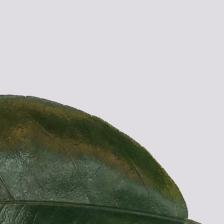healthy: (1, 94, 197, 224)
